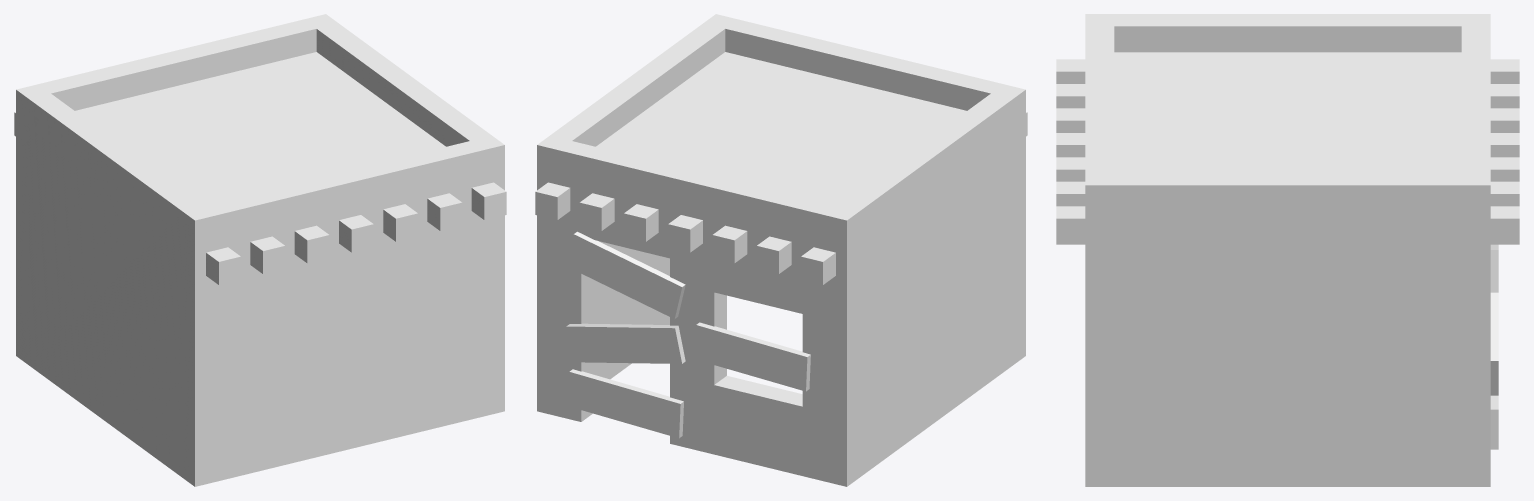
The model's file is pueblo-s.fbx.
The picture shows the model from 3 angles, left to right: view 1: azimuth 30°, elevation 25°; view 2: azimuth 150°, elevation 25°; view 3: azimuth 270°, elevation 25°; orthographic projection. The views are drawn at different scales.
Visible parts, largest first — view 1: Plane; view 2: Plane; view 3: Plane.
Boxes of the visible parts, left/top/right/bottom form: Plane: left=14, top=14, right=506, bottom=486; Plane: left=535, top=14, right=1027, bottom=486; Plane: left=1056, top=14, right=1519, bottom=486.
Bounding box in the file's own units: 14 × 11.5 × 16.
